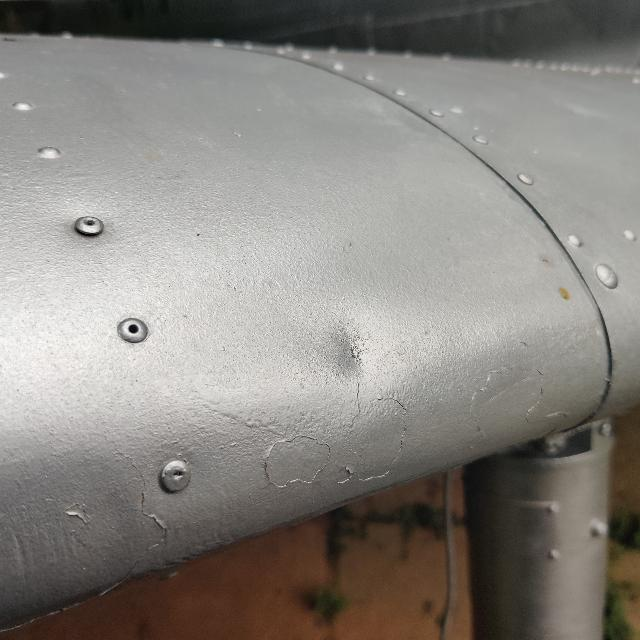dent: (306, 312, 396, 390)
